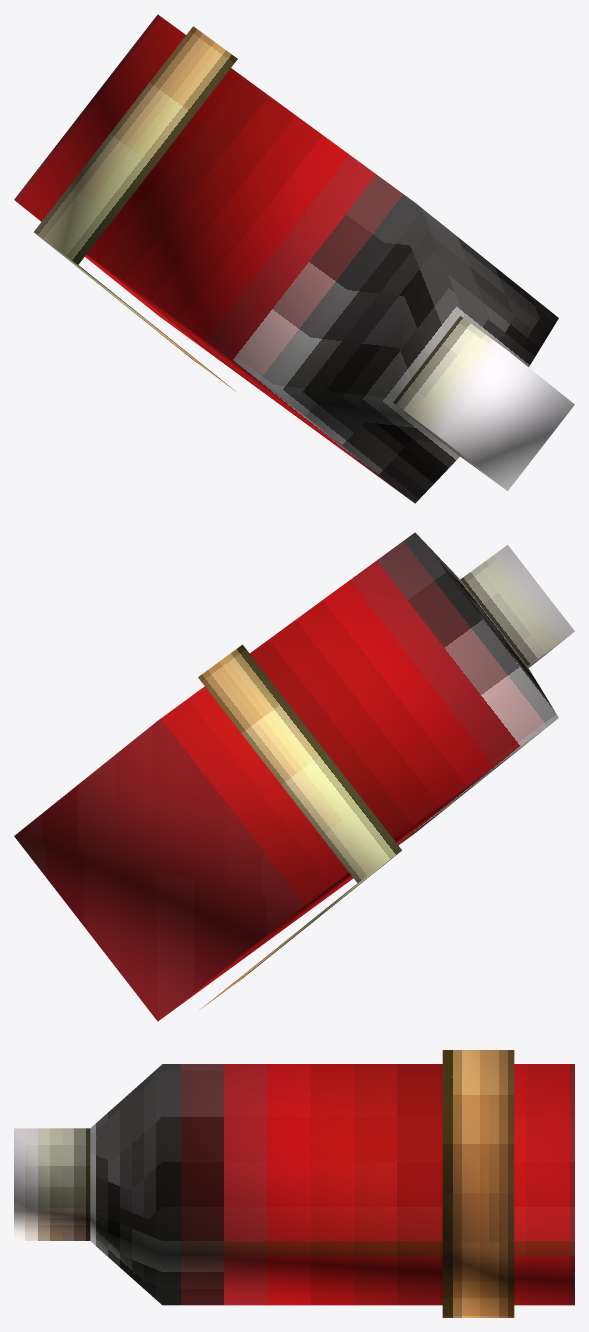
The model's file is Potion03.glb.
3 renders of one model, top to bottom at view 1: azimuth 30°, elevation 25°; view 2: azimuth 150°, elevation 25°; view 3: azimuth 270°, elevation 25°, orthographic. The views are drawn at different scales.
Parts seen in each view (by area): view 1: model_Potion03; view 2: model_Potion03; view 3: model_Potion03.
Boxes of the visible parts, x1,y1,x2,y2 form: model_Potion03: (14, 14, 574, 503); model_Potion03: (14, 532, 574, 1021); model_Potion03: (14, 1050, 574, 1317).
Size of the model in its own units: 0.1627 by 0.1627 by 0.309.
Materials: 2 (2 with a texture image).
